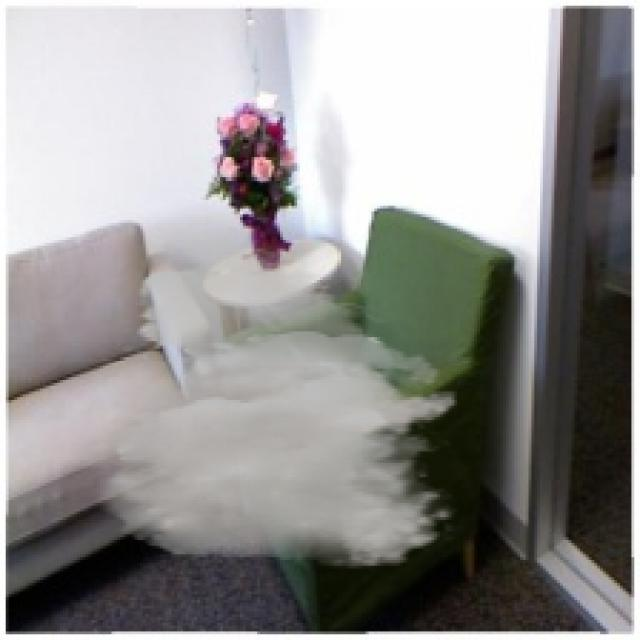smoke: (49, 226, 460, 568)
